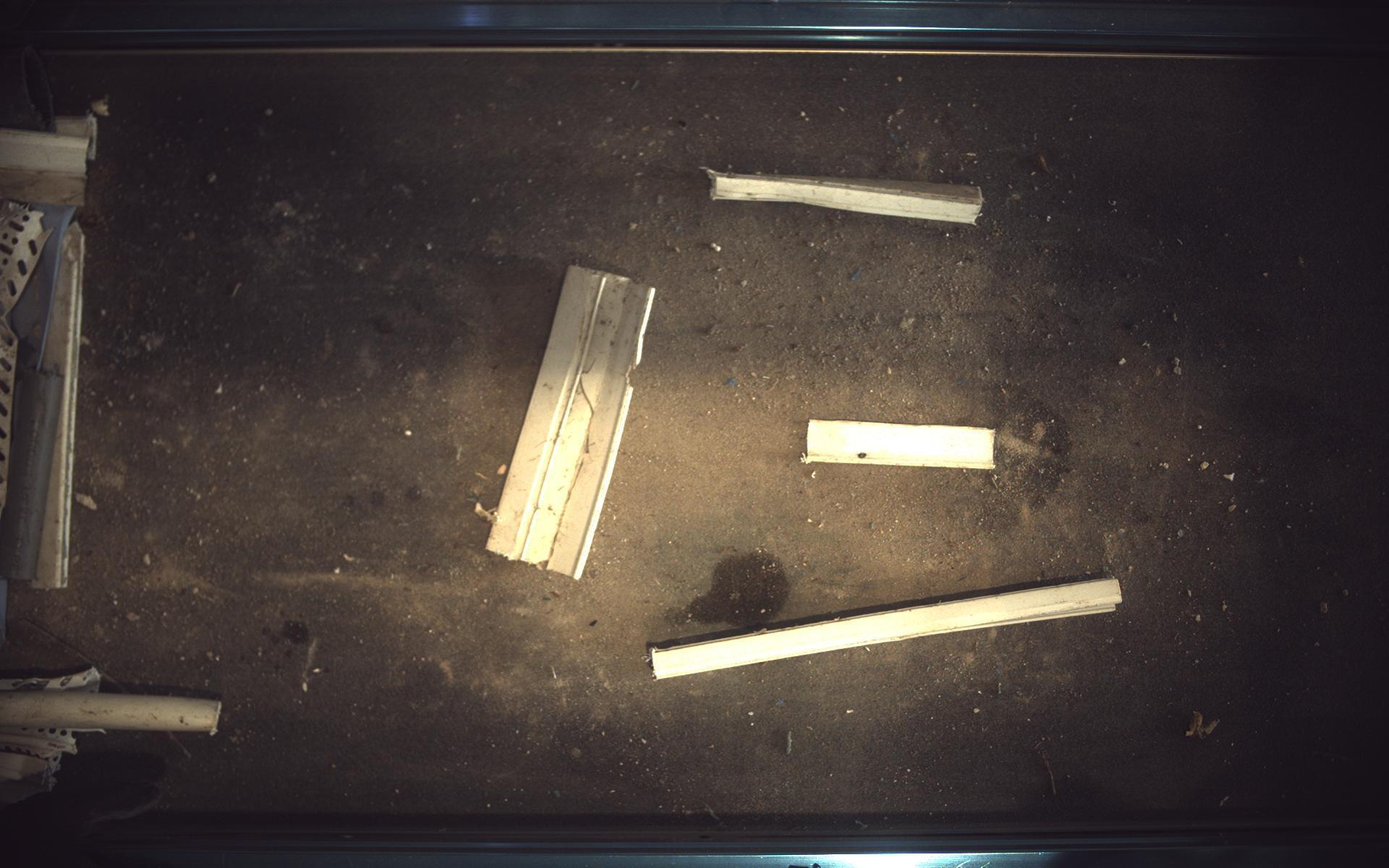plastic: (487, 265, 656, 579), (651, 579, 1124, 681), (706, 168, 985, 223), (805, 420, 997, 469)
